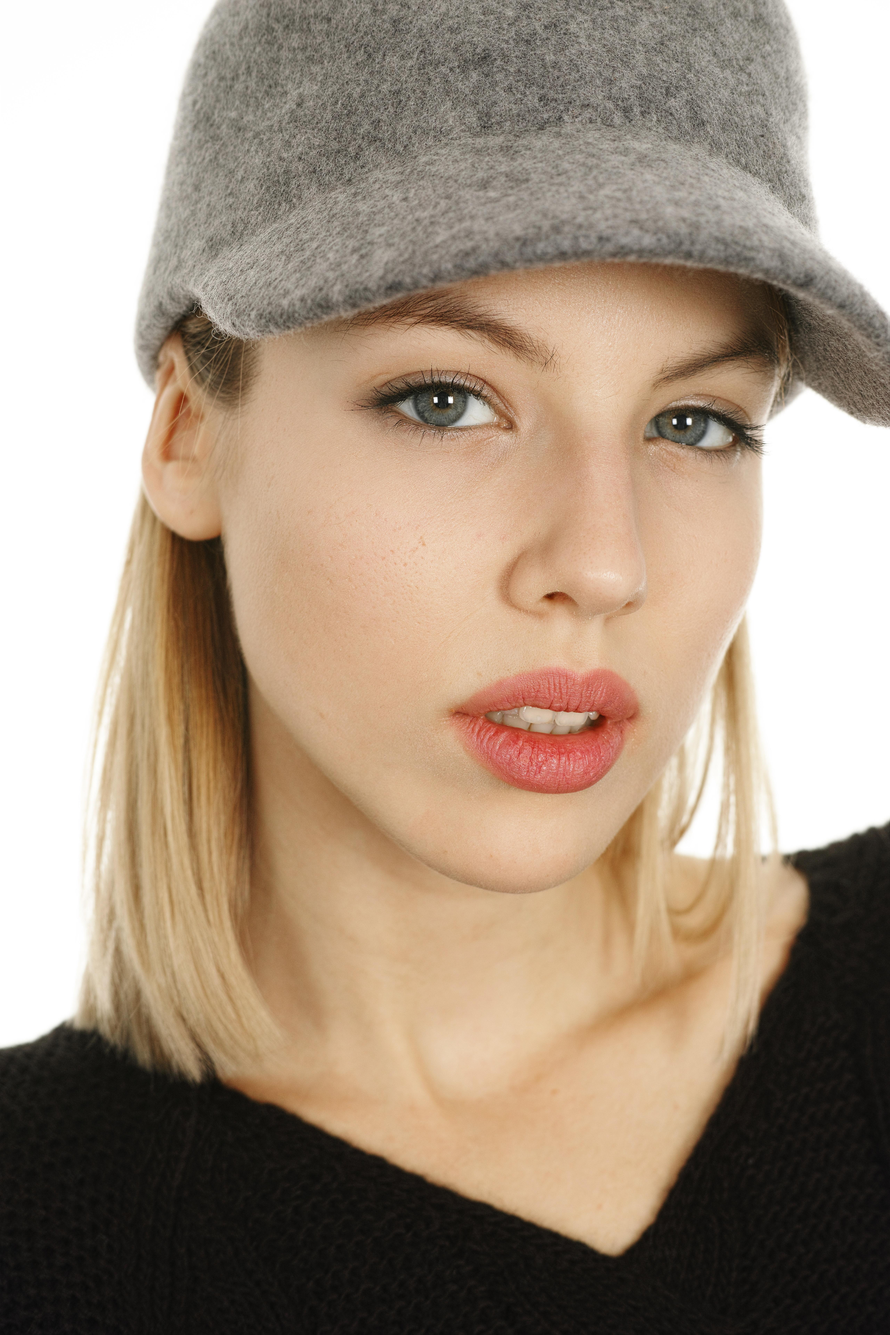Eyes: (344, 346, 528, 466), (629, 379, 767, 483)
